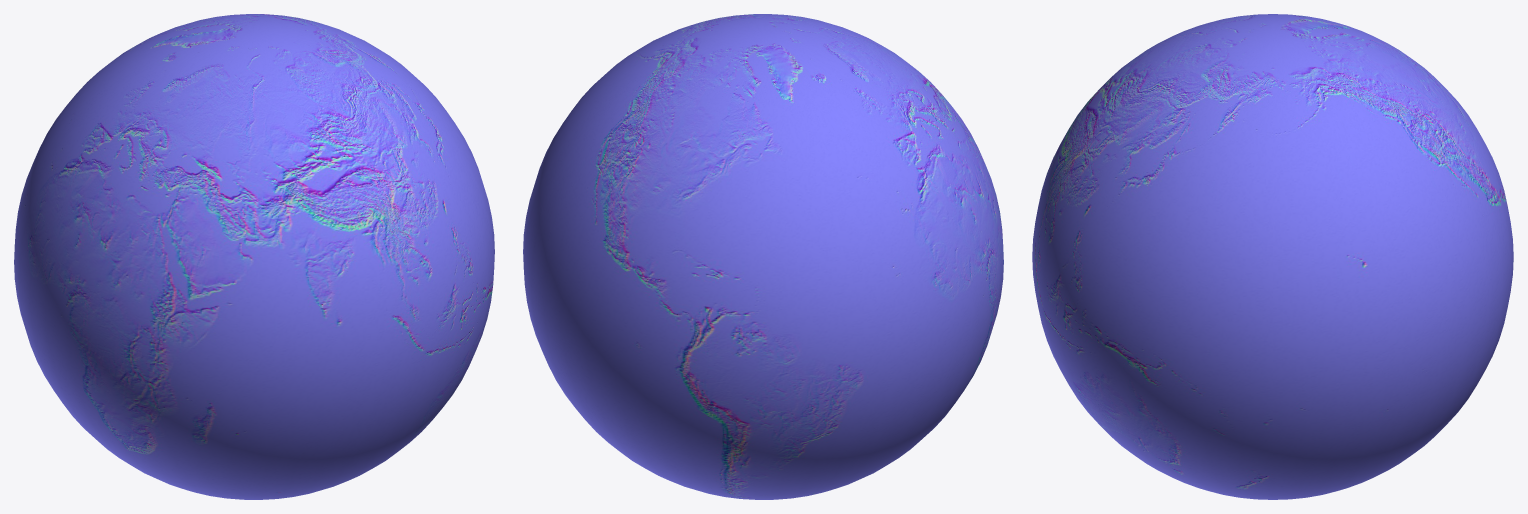
File: earth3.obj
The picture shows the model from 3 angles, left to right: view 1: azimuth 30°, elevation 25°; view 2: azimuth 150°, elevation 25°; view 3: azimuth 270°, elevation 25°; orthographic projection.
Visible parts, largest first — view 1: pSphere002; view 2: pSphere002; view 3: pSphere002.
Part boxes in pixels (x1,y1,x2,y2): pSphere002: [14, 14, 494, 499]; pSphere002: [523, 14, 1003, 499]; pSphere002: [1032, 14, 1513, 499].
Bounding box in the file's own units: 303 × 307 × 303.
1 material, 1 textured.
